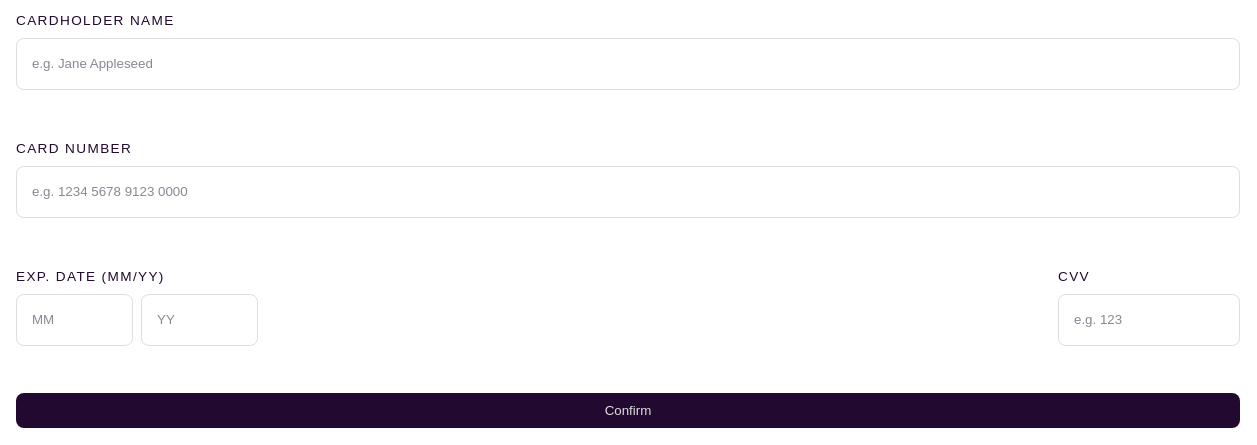
Test: AddCardForm › Should display an error if card number is incorrect
The image size is (1257, 445).
Type "1s34 6d78 891s 0001" into the field with placeholder "e.g. 1234 5678 9123 0000" at [628, 192], box [16, 166, 1240, 218]
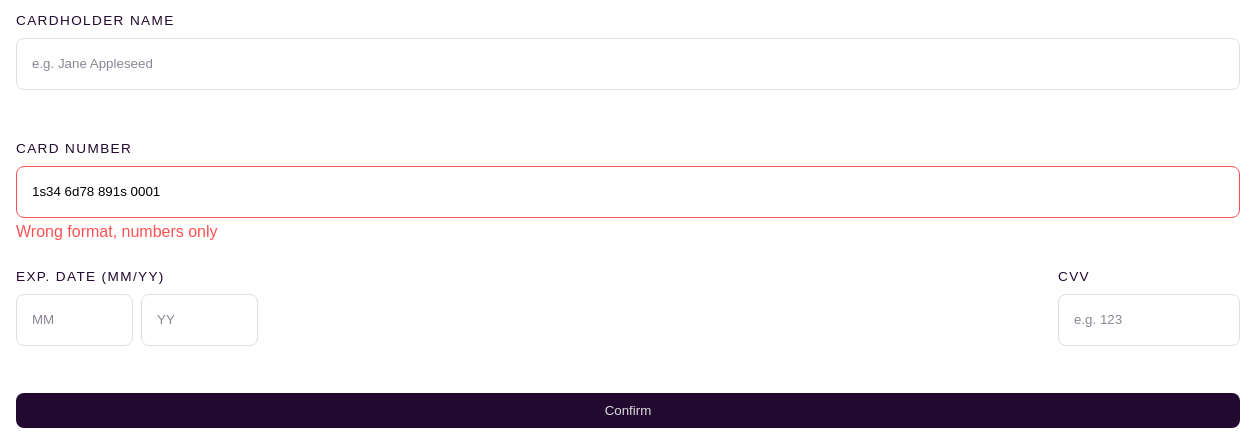
Expected: the text "Wrong format, numbers only" is shown, [16, 222, 218, 240]
